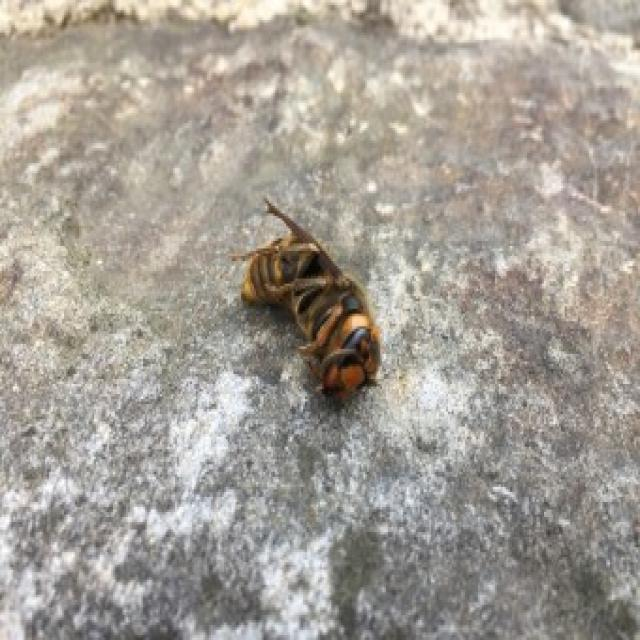Wasp: (235, 196, 388, 403)
